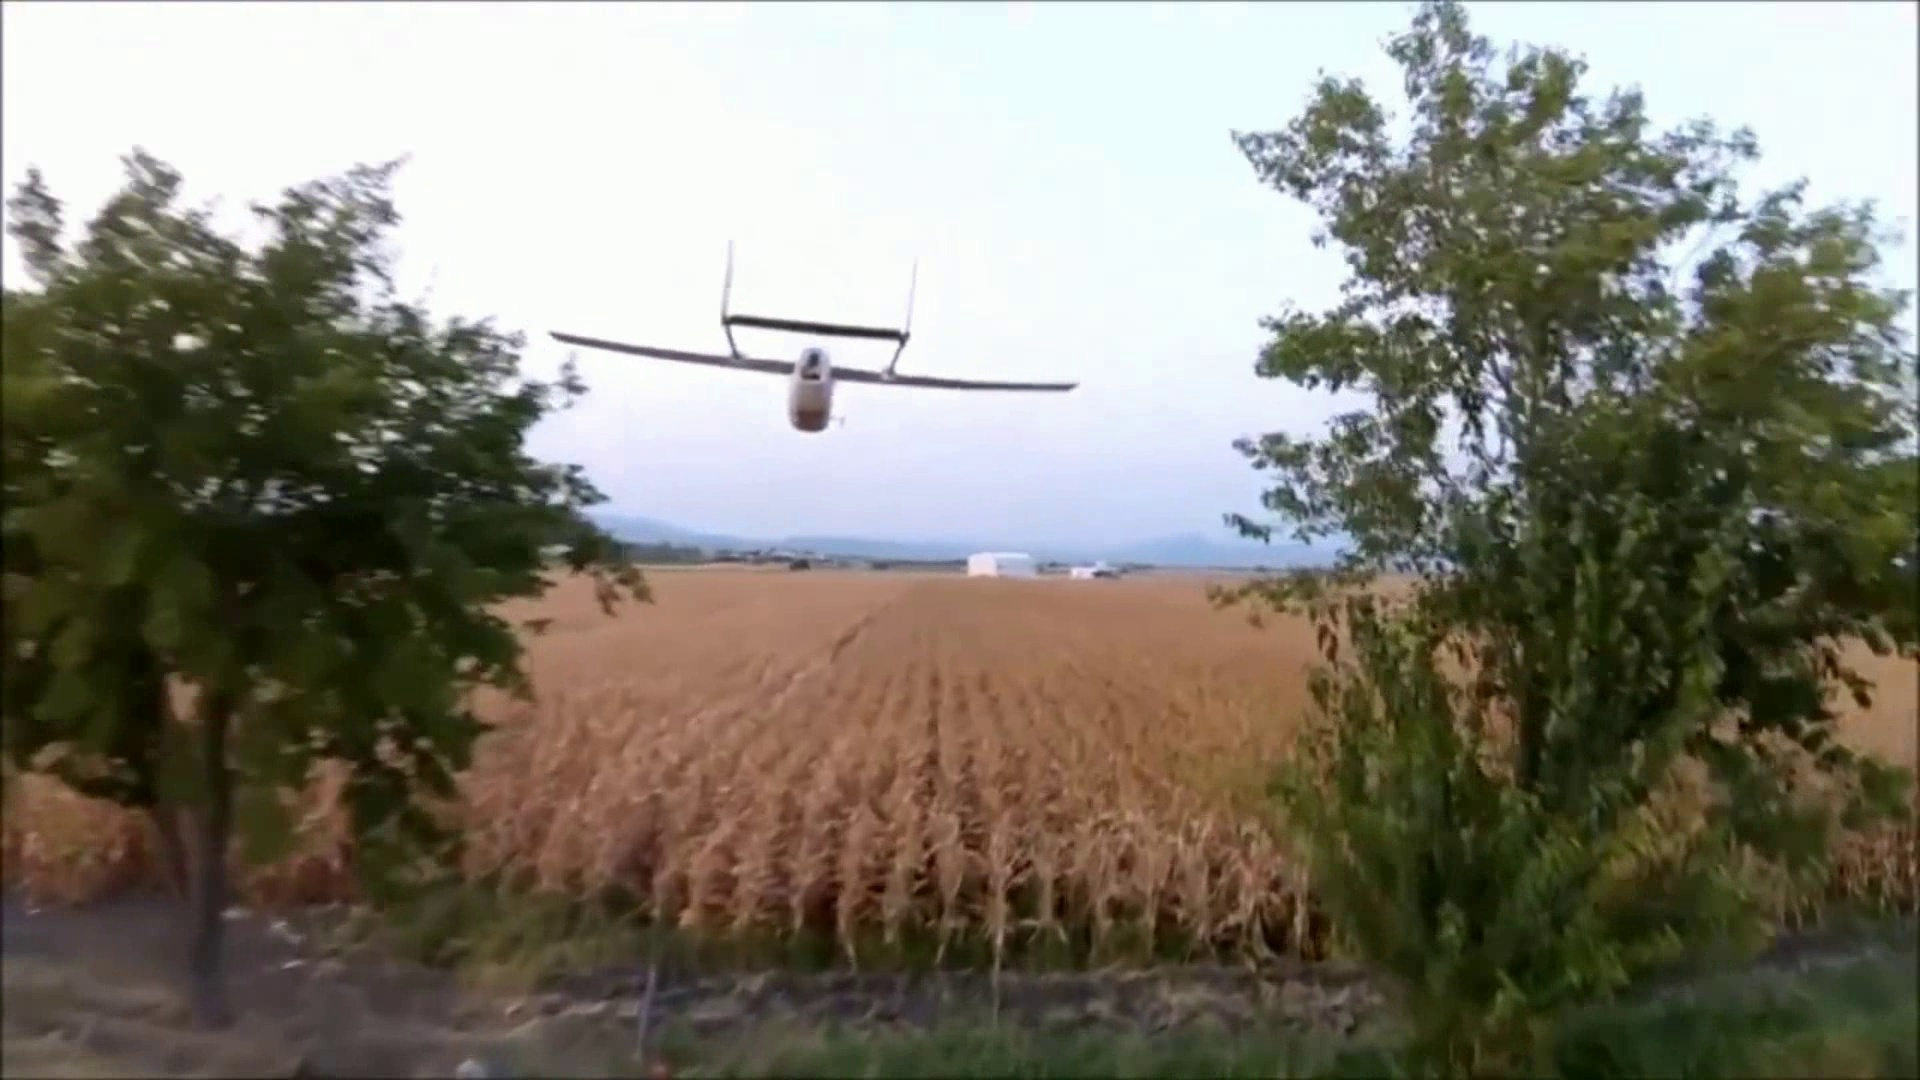airplane: (547, 237, 1083, 434)
